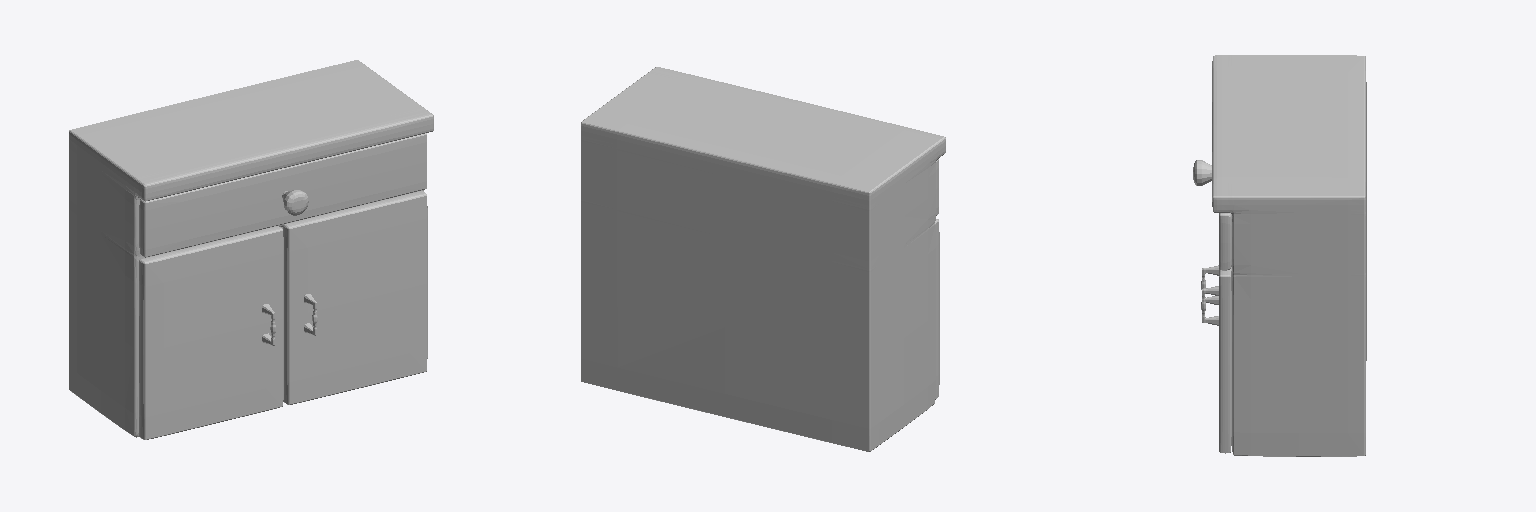
Rendered from Kitchen_1_Wardrobe.obj.
3 renders of one model, left to right at view 1: azimuth 30°, elevation 25°; view 2: azimuth 150°, elevation 25°; view 3: azimuth 270°, elevation 25°, orthographic.
Visible parts, largest first — view 1: cabinet, Left_Door_Cube.008, Right_Door_Cube.016, Banister_Cube.007, Cube.005_Cube.009; view 2: cabinet, Left_Door_Cube.008; view 3: cabinet, Right_Door_Cube.016, Banister_Cube.007.
Boxes of the visible parts, x1,y1,x2,y2 form: cabinet: [69, 60, 433, 437]; Left_Door_Cube.008: [139, 226, 283, 439]; Right_Door_Cube.016: [283, 191, 427, 404]; Banister_Cube.007: [139, 133, 426, 257]; Cube.005_Cube.009: [282, 190, 308, 215]; cabinet: [581, 67, 945, 451]; Left_Door_Cube.008: [935, 219, 939, 399]; cabinet: [1212, 55, 1366, 456]; Right_Door_Cube.016: [1219, 267, 1231, 453]; Banister_Cube.007: [1219, 213, 1231, 270].
Bounding box in the file's own units: 5 × 4.3 × 2.58.